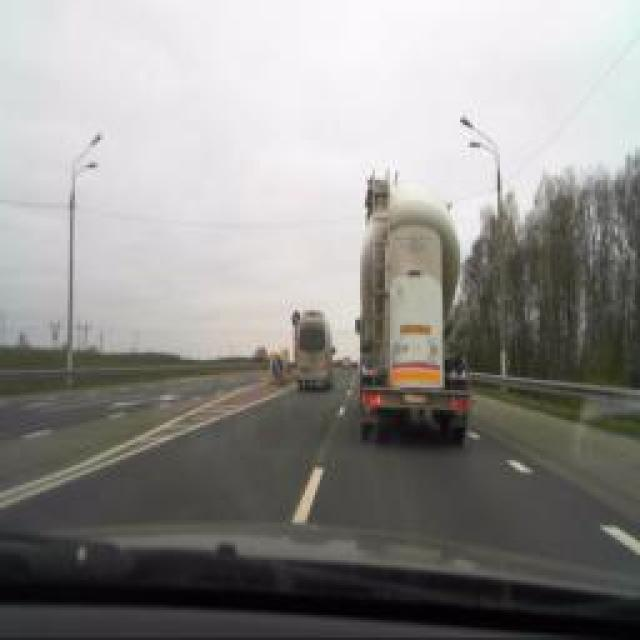sign: (271, 354, 284, 378), (290, 310, 300, 328)
